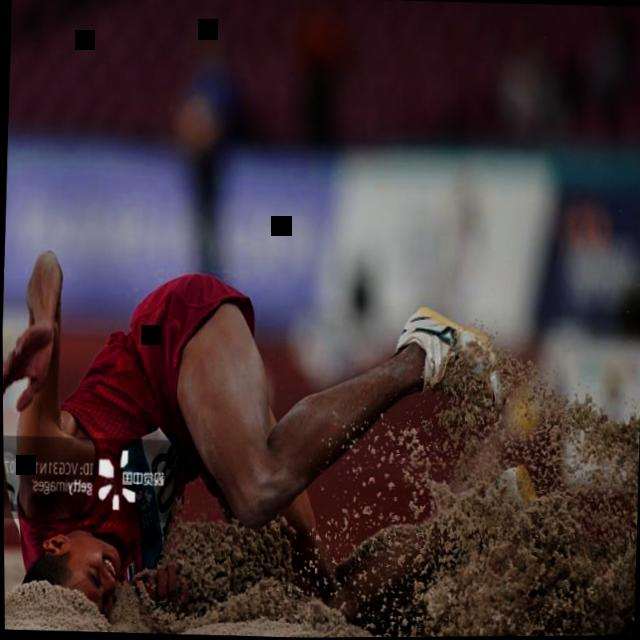Fall-Detected: (1, 199, 640, 640)
